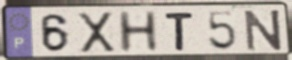5: (206, 10, 240, 52)
6: (38, 13, 72, 55)
H: (116, 10, 161, 55)
N: (243, 8, 285, 53)
T: (163, 11, 196, 53)
X: (75, 11, 118, 55)
